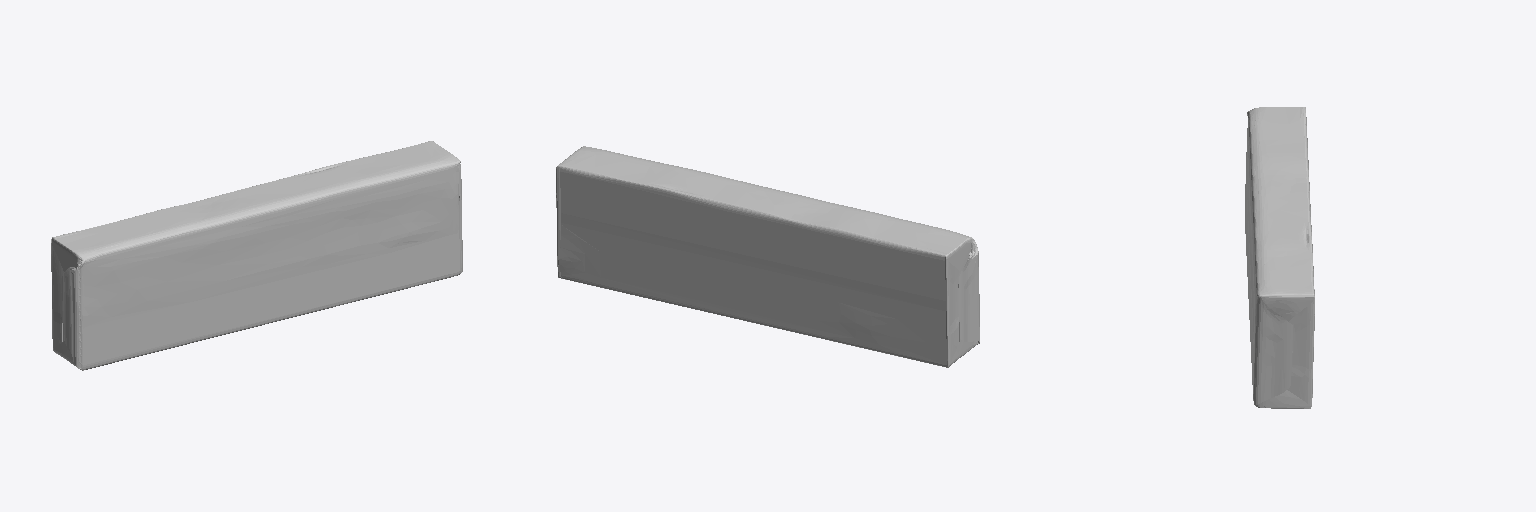
File: decimated_2.obj
The picture shows the model from 3 angles: view 1: azimuth 30°, elevation 25°; view 2: azimuth 150°, elevation 25°; view 3: azimuth 270°, elevation 25°; orthographic projection.
Parts seen in each view (by area): view 1: Floating_Stick.001; view 2: Floating_Stick.001; view 3: Floating_Stick.001.
Part boxes in pixels (left/top/right/bottom): Floating_Stick.001: left=51, top=141, right=462, bottom=370; Floating_Stick.001: left=556, top=146, right=979, bottom=367; Floating_Stick.001: left=1245, top=107, right=1314, bottom=408.
Bounding box in the file's own units: 29.71 × 8.43 × 4.63.